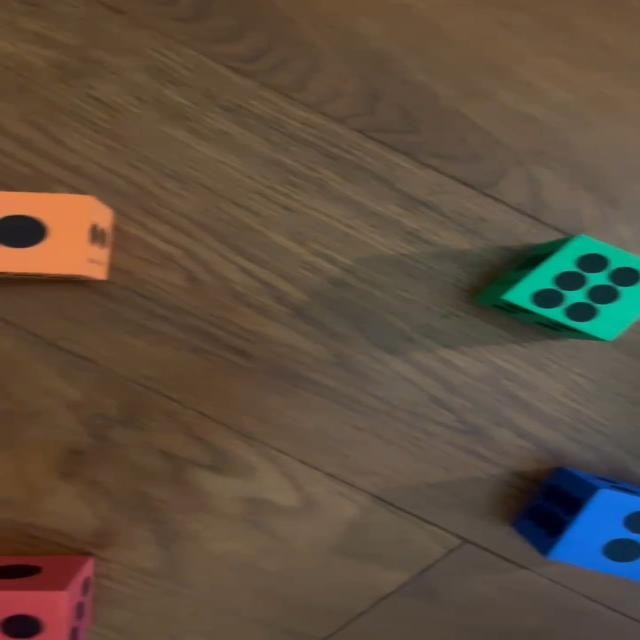red_block: (0, 555, 97, 640)
